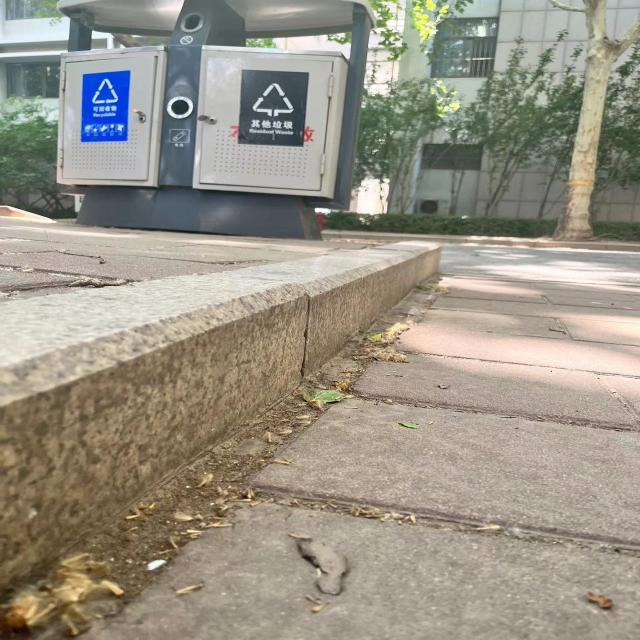bump: (0, 209, 442, 573)
